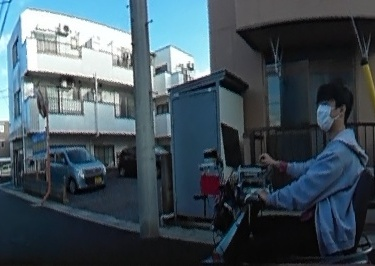person: (271, 75, 356, 266)
